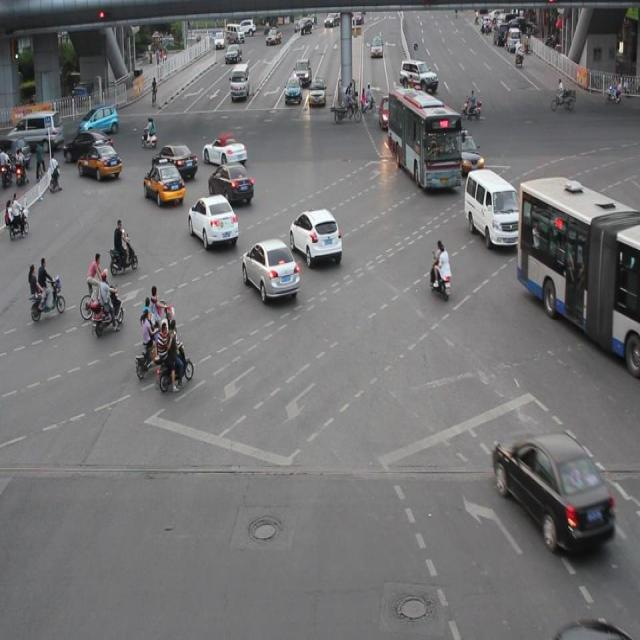car: (491, 432, 613, 551), (242, 237, 300, 300), (290, 206, 342, 266), (187, 192, 238, 248), (208, 161, 253, 205), (143, 160, 185, 205), (77, 140, 123, 180), (152, 141, 198, 181), (64, 130, 112, 162), (202, 133, 246, 167), (450, 128, 482, 172)
truck: (463, 169, 519, 245)
van: (516, 176, 640, 374), (387, 90, 460, 190)
